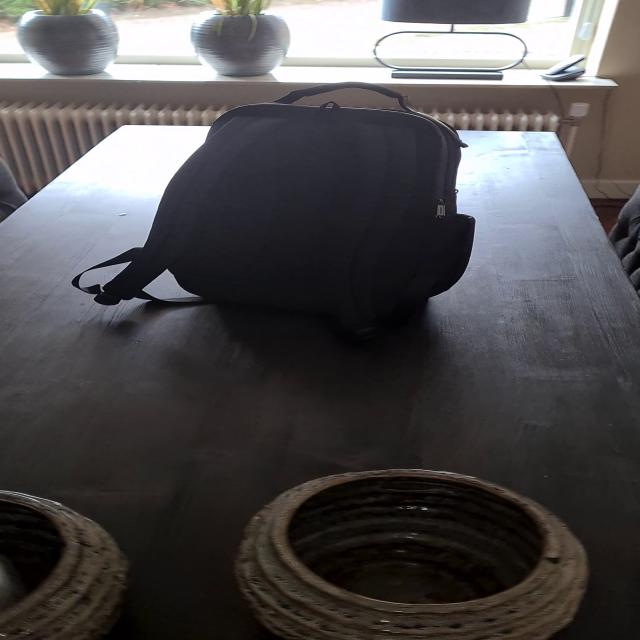backpack: (77, 76, 483, 335)
